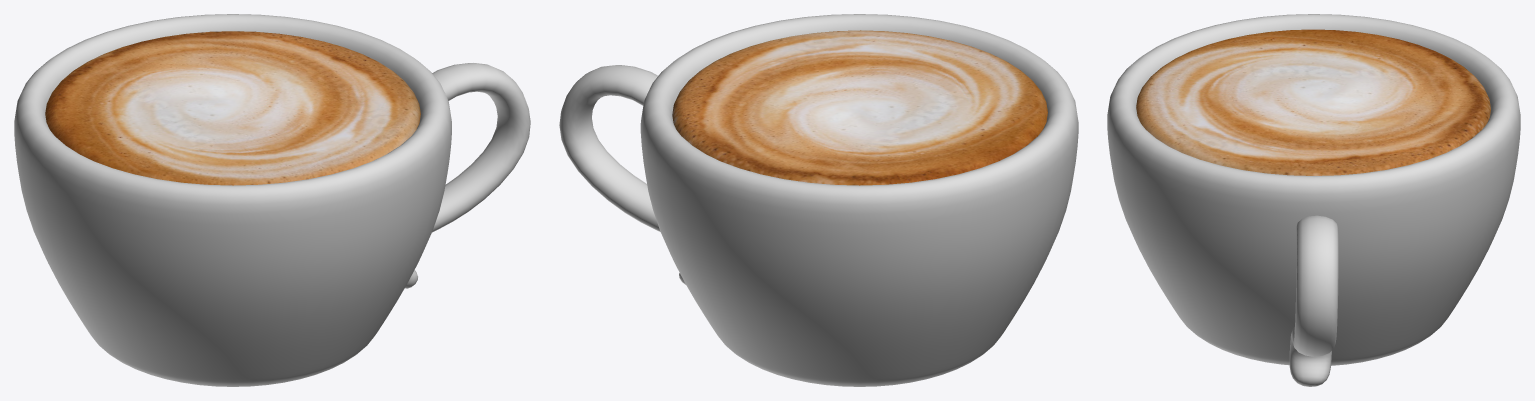
The model's file is cappucinno.glb.
3 views of the same model, side by side, from view 1: azimuth 30°, elevation 25°; view 2: azimuth 150°, elevation 25°; view 3: azimuth 270°, elevation 25° (orthographic). The views are drawn at different scales.
Parts seen in each view (by area): view 1: Circle, Circle.002, Circle.001; view 2: Circle, Circle.002, Circle.001; view 3: Circle, Circle.002, Circle.001.
Boxes of the visible parts, x1=… form: Circle: x1=14, y1=14, x2=451, y2=386; Circle.002: x1=45, y1=31, x2=420, y2=185; Circle.001: x1=405, y1=63, x2=530, y2=288; Circle: x1=640, y1=14, x2=1078, y2=386; Circle.002: x1=672, y1=30, x2=1047, y2=185; Circle.001: x1=559, y1=65, x2=685, y2=284; Circle: x1=1107, y1=14, x2=1520, y2=365; Circle.002: x1=1136, y1=29, x2=1490, y2=175; Circle.001: x1=1289, y1=215, x2=1338, y2=386.
Bounding box in the file's own units: 3.83 × 1.77 × 3.
2 materials, 1 textured.
